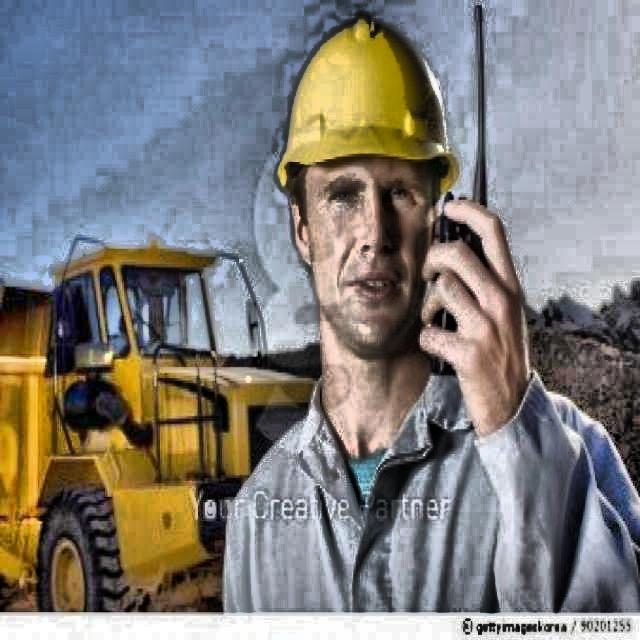bull_dozer/loader/grader: (0, 232, 317, 614)
person: (221, 15, 640, 612)
